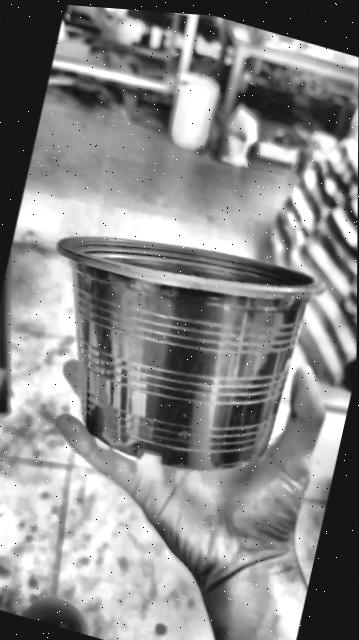pot: (56, 237, 320, 470)
